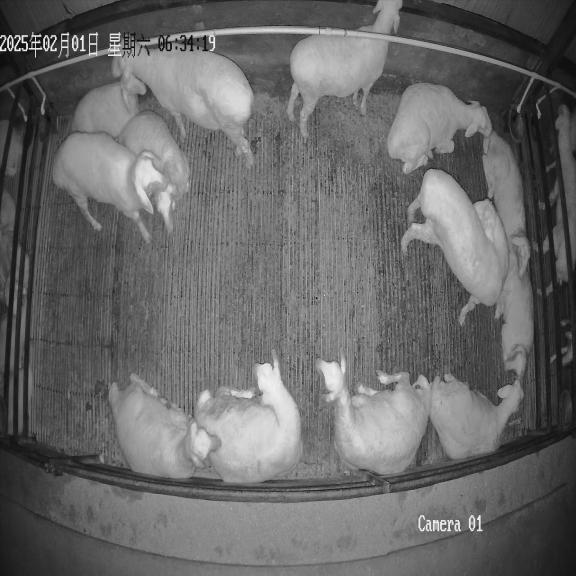lying: (194, 354, 302, 483), (316, 354, 430, 475), (108, 374, 220, 478), (386, 83, 492, 174), (118, 110, 189, 232), (430, 374, 523, 460), (482, 131, 531, 278), (496, 252, 533, 378), (71, 81, 138, 137), (363, 431, 370, 441)
stand: (111, 35, 253, 165), (401, 169, 509, 323), (287, 0, 402, 138), (52, 132, 169, 242), (0, 168, 8, 198)
